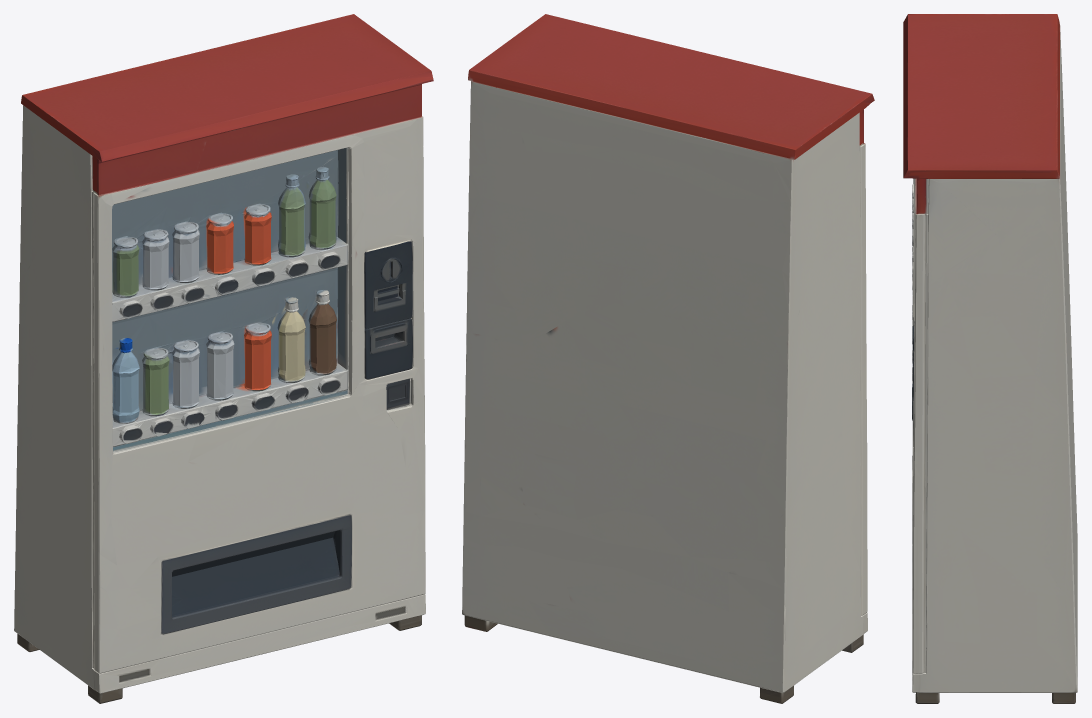
File: vending_machine.glb
3 views of the same model, side by side, from view 1: azimuth 30°, elevation 25°; view 2: azimuth 150°, elevation 25°; view 3: azimuth 270°, elevation 25° (orthographic). The views are drawn at different scales.
Visible parts, largest first — view 1: vending_machine; view 2: vending_machine; view 3: vending_machine.
Boxes of the visible parts, x1=… form: vending_machine: x1=14, y1=14, x2=433, y2=703; vending_machine: x1=462, y1=14, x2=874, y2=703; vending_machine: x1=903, y1=14, x2=1077, y2=703.
Bounding box in the file's own units: 1.14 × 1.83 × 0.5389.
Materials: 1 (1 with a texture image).
